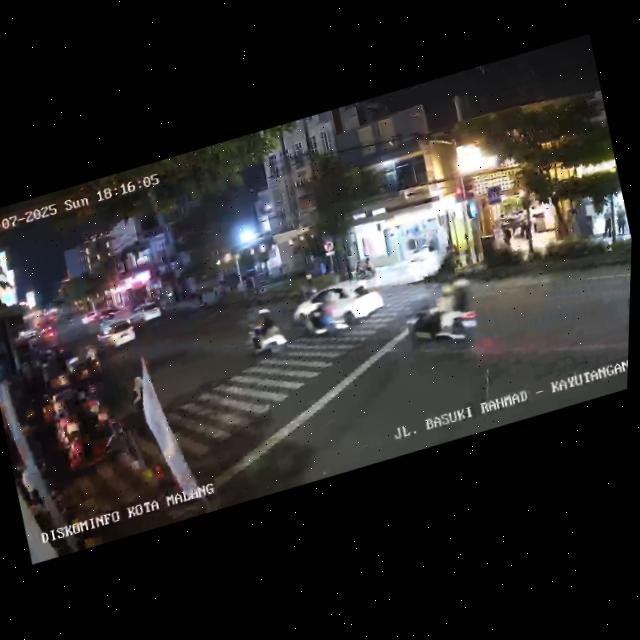car: (285, 270, 387, 347), (92, 316, 138, 357), (127, 298, 164, 329), (93, 307, 115, 327), (77, 308, 98, 327)
motorcycle: (397, 274, 488, 363), (238, 300, 293, 368), (293, 293, 344, 350), (80, 339, 105, 379)
person: (126, 372, 155, 426), (518, 218, 535, 251), (614, 205, 631, 238), (600, 210, 617, 240), (500, 221, 516, 251)
